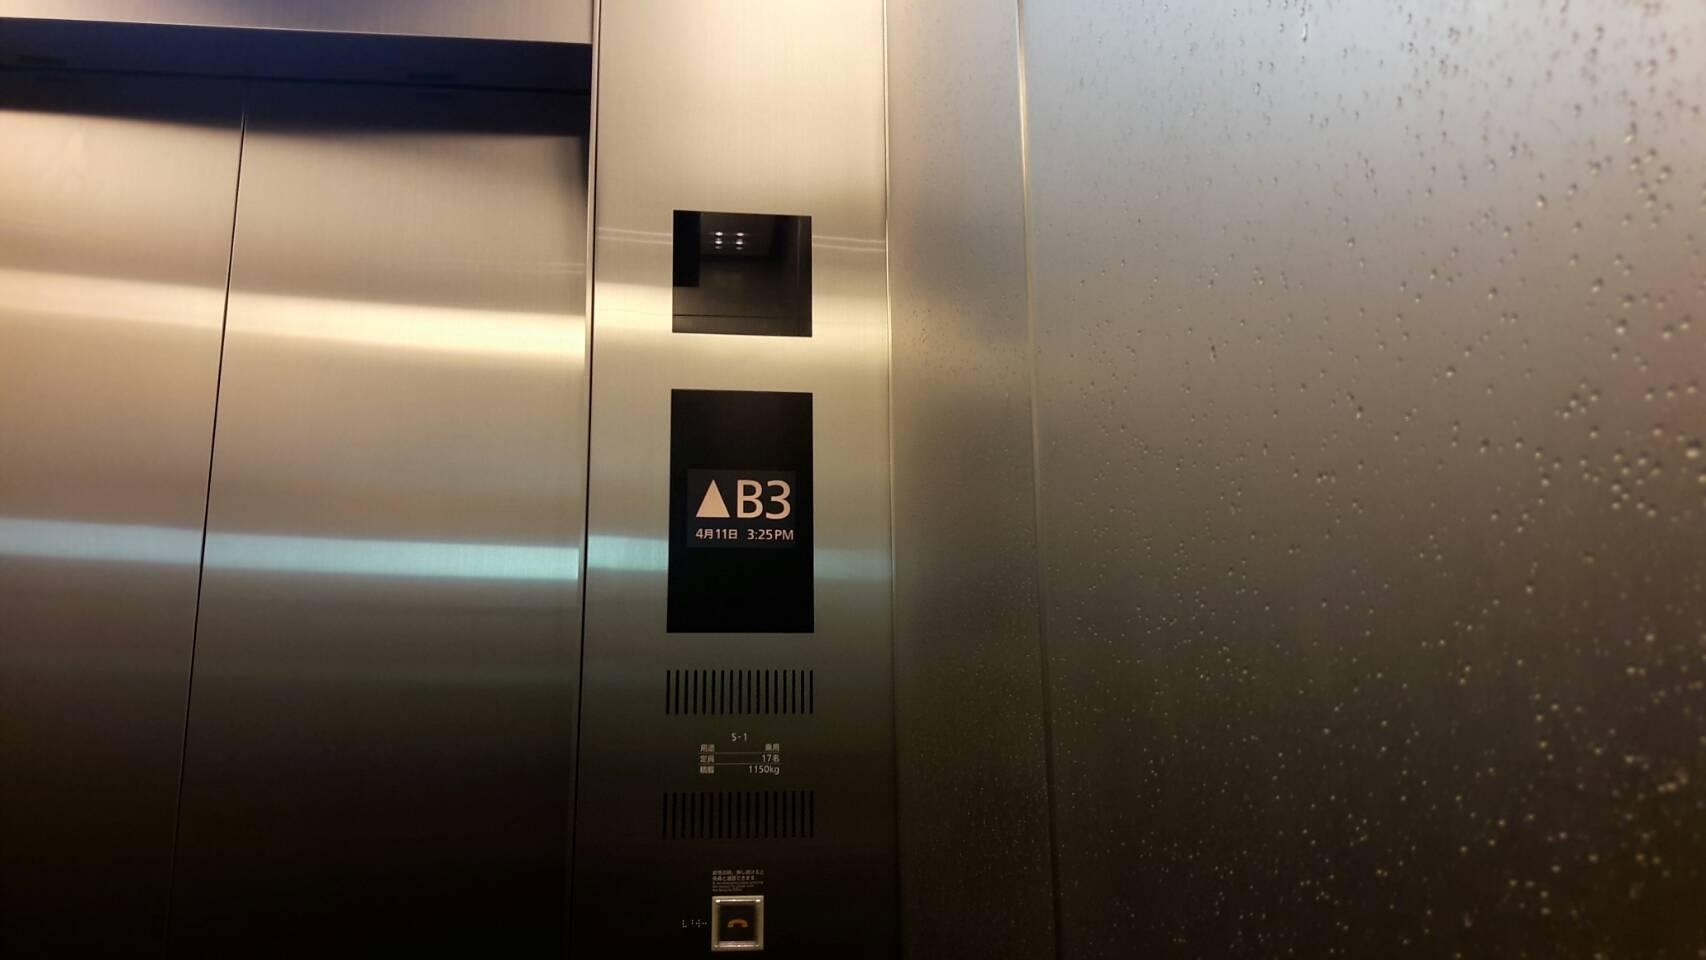call: (712, 896, 765, 949)
led: (658, 383, 821, 640), (662, 203, 817, 342)
